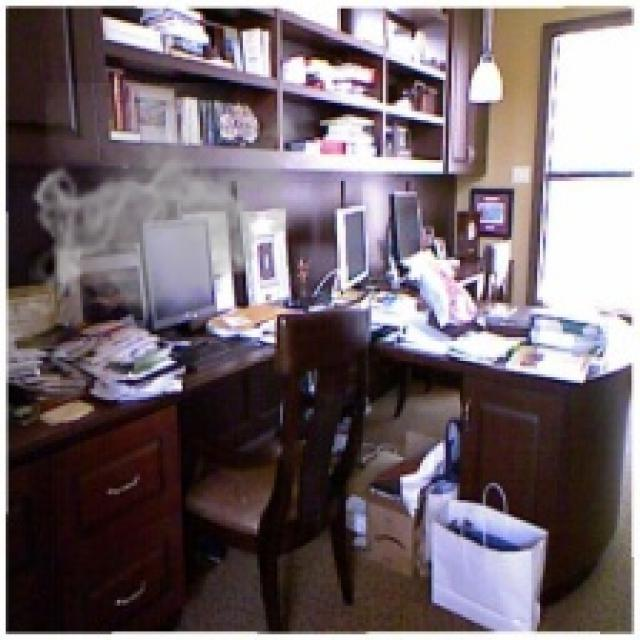Smoke: (29, 82, 308, 328)
